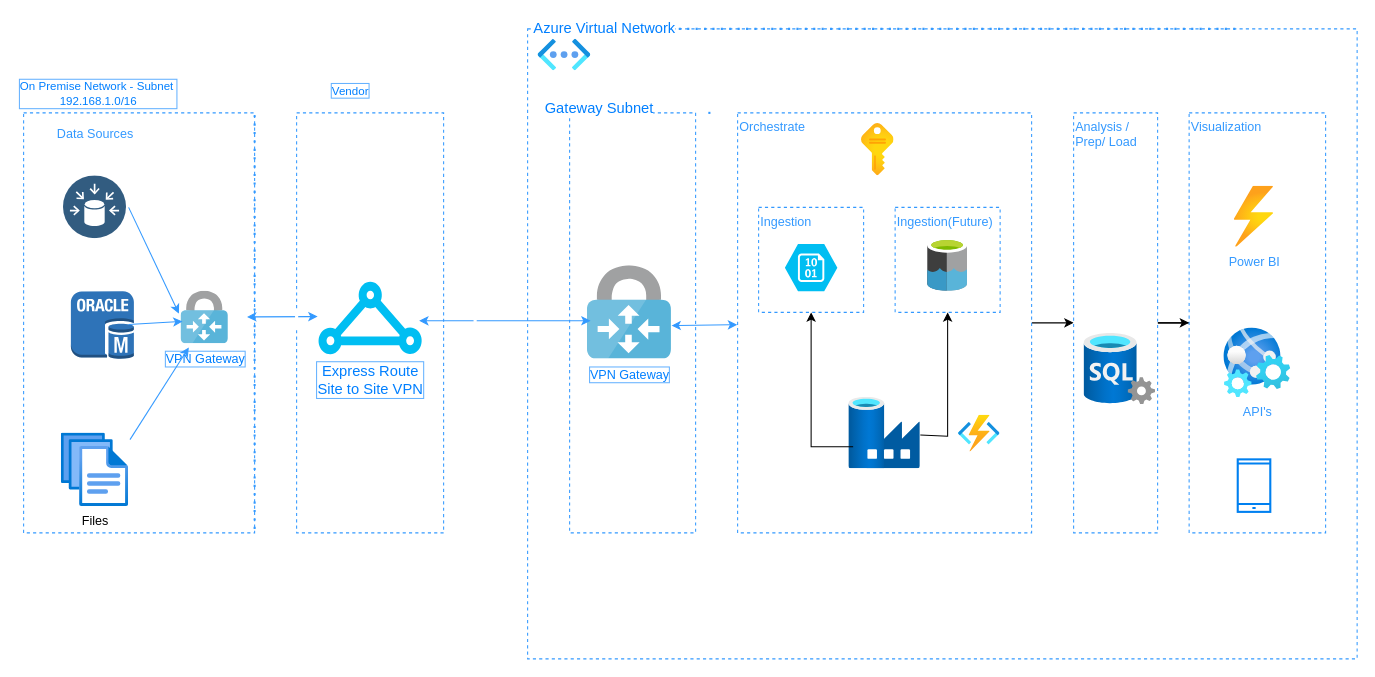
This 1375x677 diagram has some shape labels left out. Here are the shapes that lost their labels. From the top down, the centre of each, then its label:
At pixel 94 206: "Other Data Sources".
At pixel 810 267: "Blob Storage".
At pixel 947 264: "Data Lake Gen2".
At pixel 102 324: "ORACLE DB".
At pixel 884 432: "Data Factory".
At pixel 979 433: "Function App /Batch".
